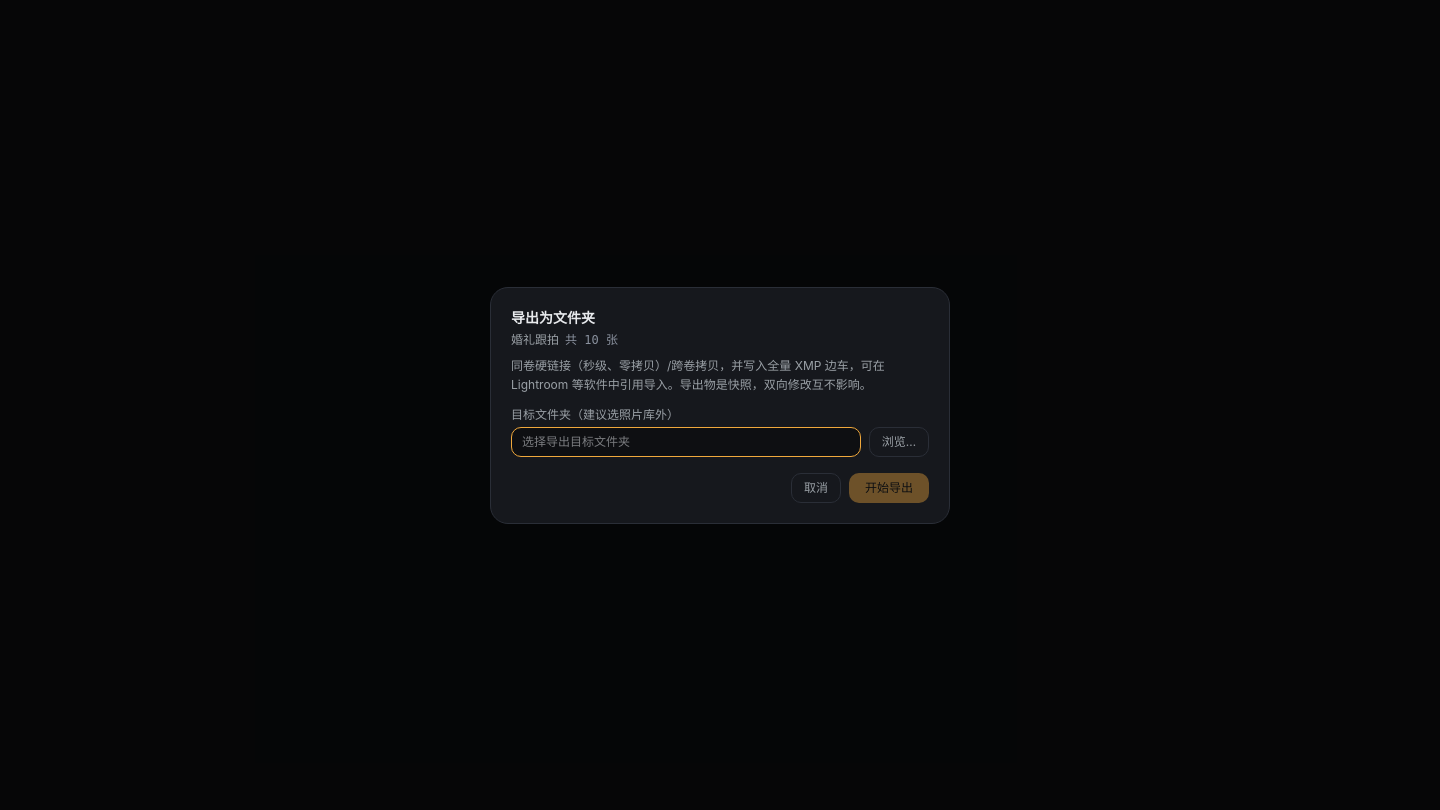
Test: 配置段：默认建议与库内提示 › 启动业务错误：后端 Err 文案透传；error=null 提示后端未连接
The width and height of the screenshot is (1440, 810).
Type "D:\\LR Export" into the field with test id "album-export-dir" at (686, 442), box 511,426 -> 861,456
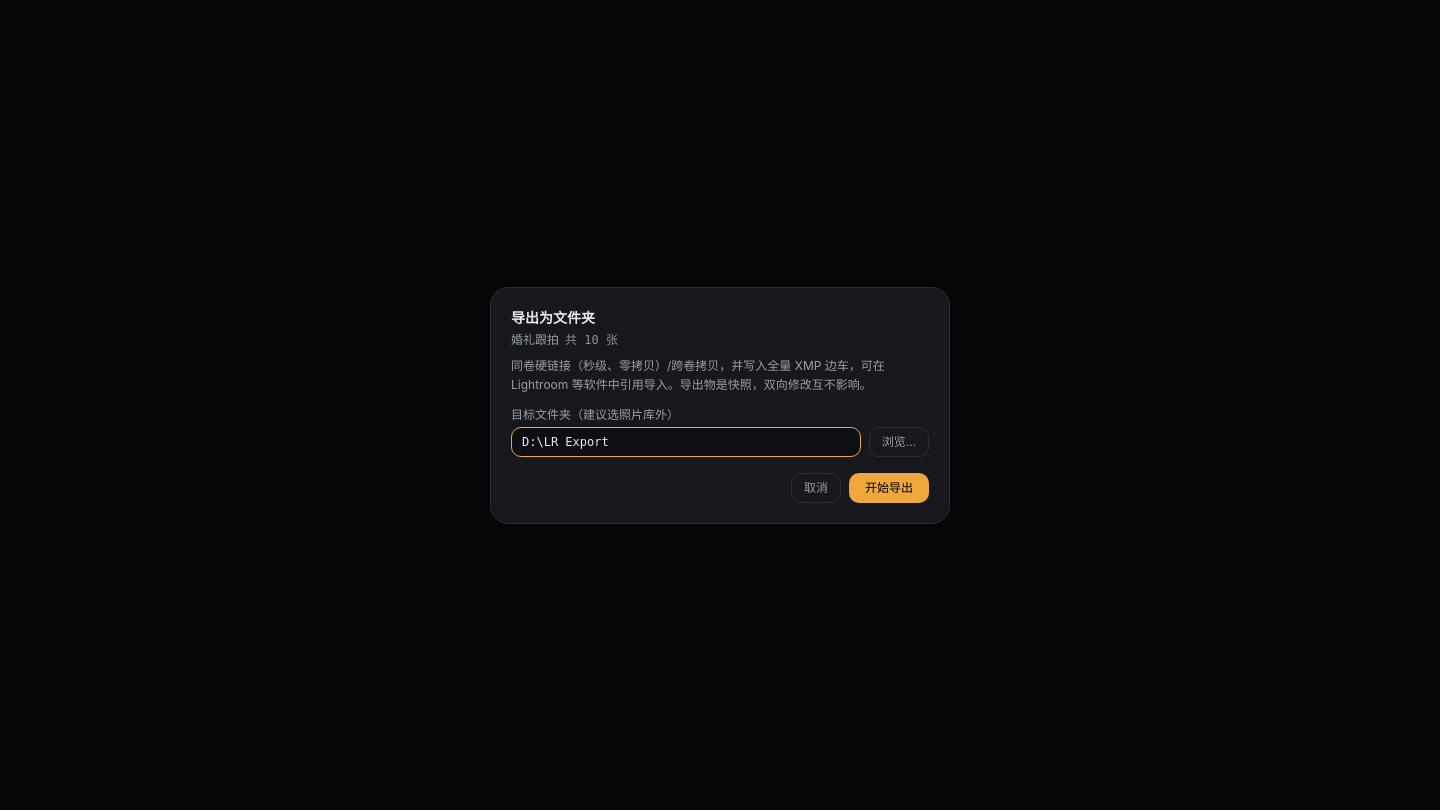
Click the button with test id "album-export-confirm" at (889, 488), box 849,472 -> 929,502
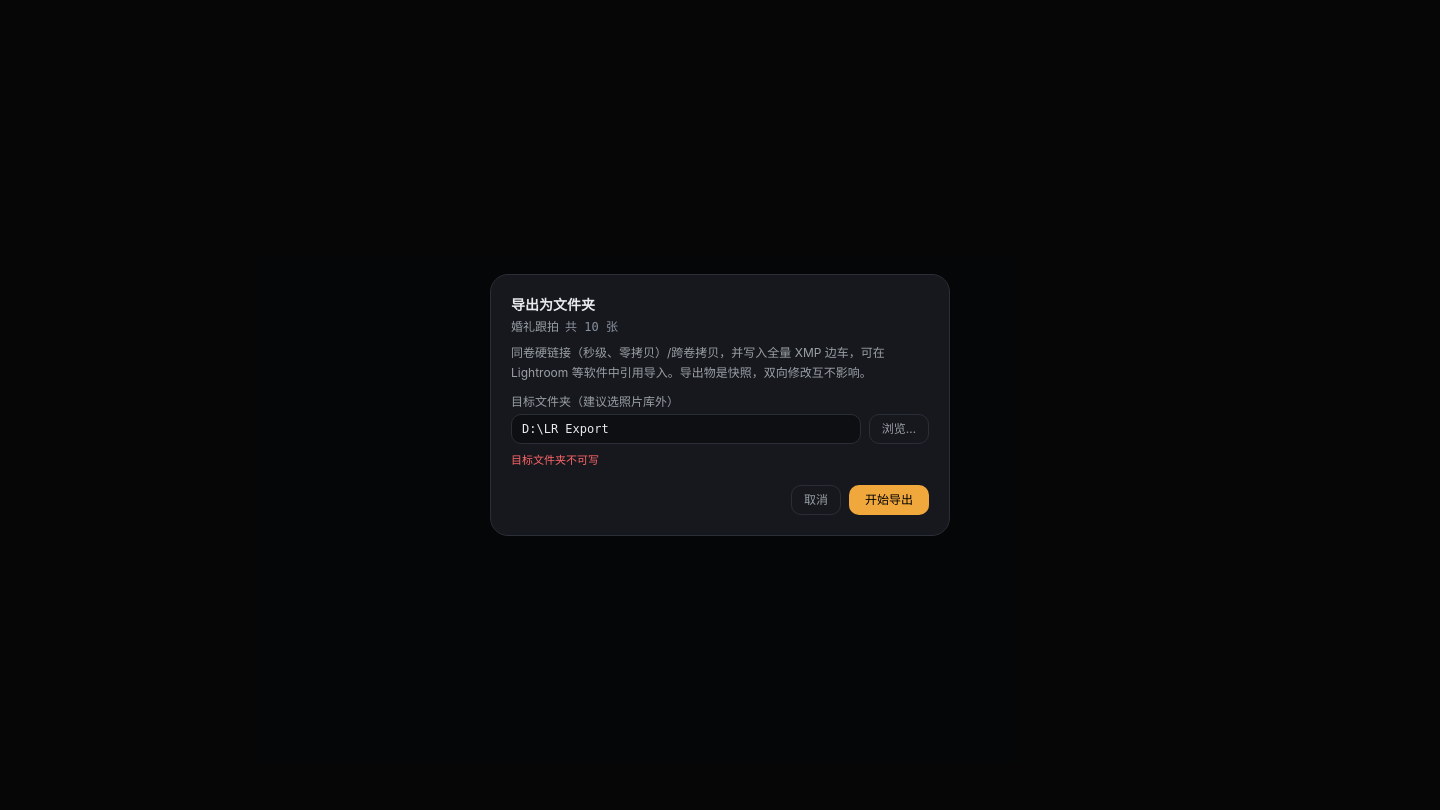
Expected: the message with test id "album-export-error" reads "目标文件夹不可写", 511,453 -> 599,467
Click the button with test id "album-export-confirm" at (889, 500), box 849,485 -> 929,515
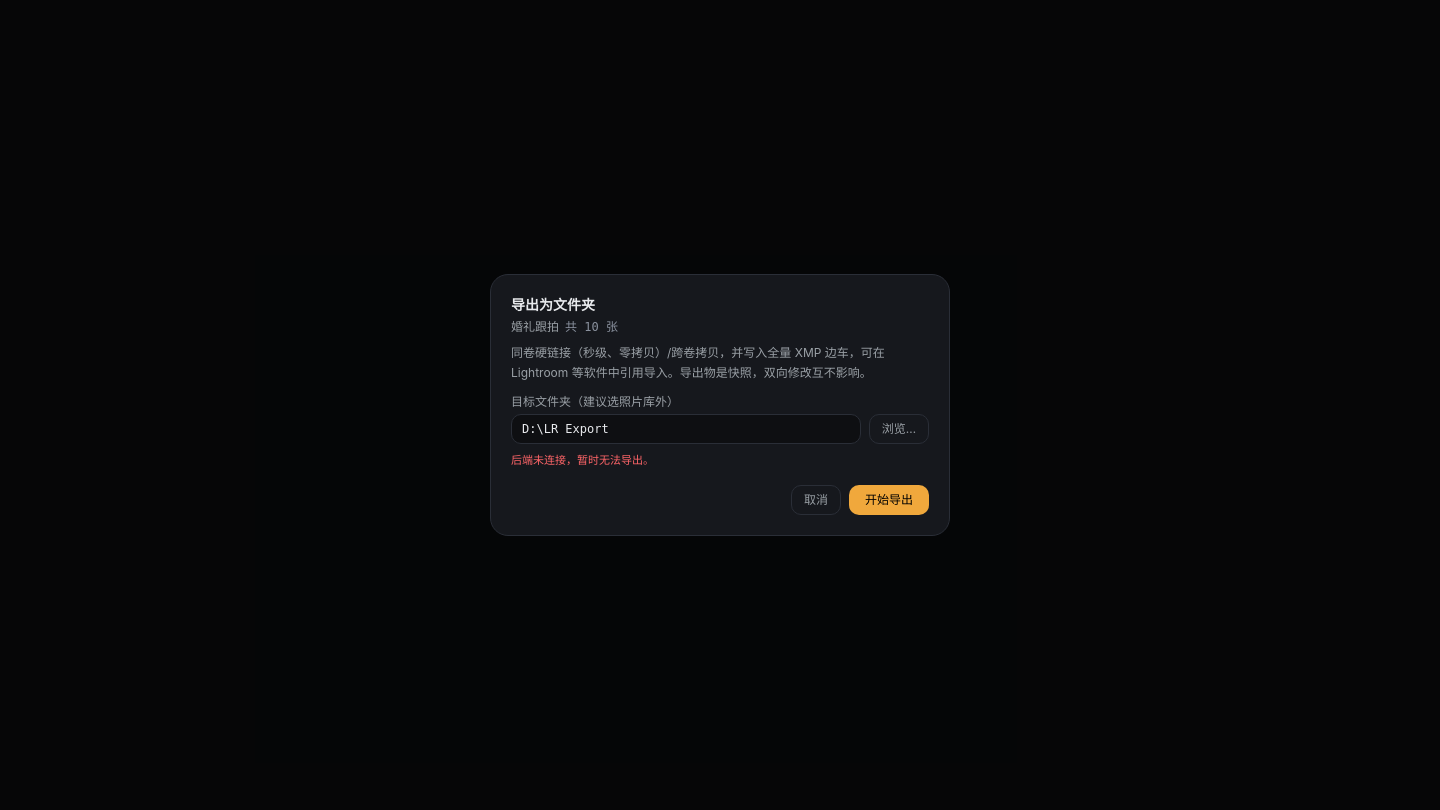
Expected: the message with test id "album-export-error" shows "后端未连接", 511,453 -> 654,467
